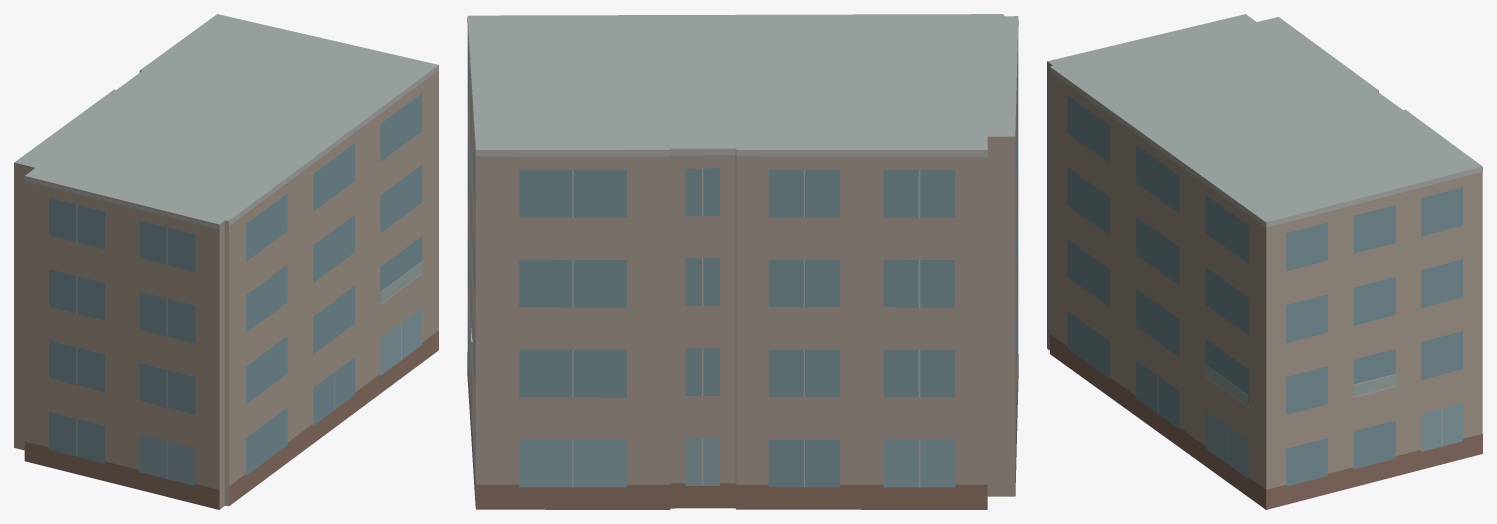
File: survey-upis-32840285.glb
3 views of the same model, side by side, from view 1: azimuth 30°, elevation 25°; view 2: azimuth 150°, elevation 25°; view 3: azimuth 270°, elevation 25° (orthographic). The views are drawn at different scales.
Parts seen in each view (by area): view 1: survey-upis-32840285.tmp; view 2: survey-upis-32840285.tmp; view 3: survey-upis-32840285.tmp.
Part boxes in pixels (box(x1,y1,x2,y2)): survey-upis-32840285.tmp: box(14, 14, 438, 509); survey-upis-32840285.tmp: box(467, 14, 1018, 509); survey-upis-32840285.tmp: box(1047, 14, 1482, 509).
Size of the model in its own units: 20.75 by 13.33 by 18.32.
